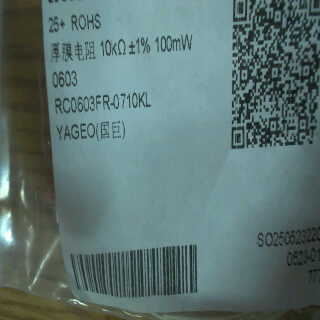10kR: (96, 34, 129, 57)
